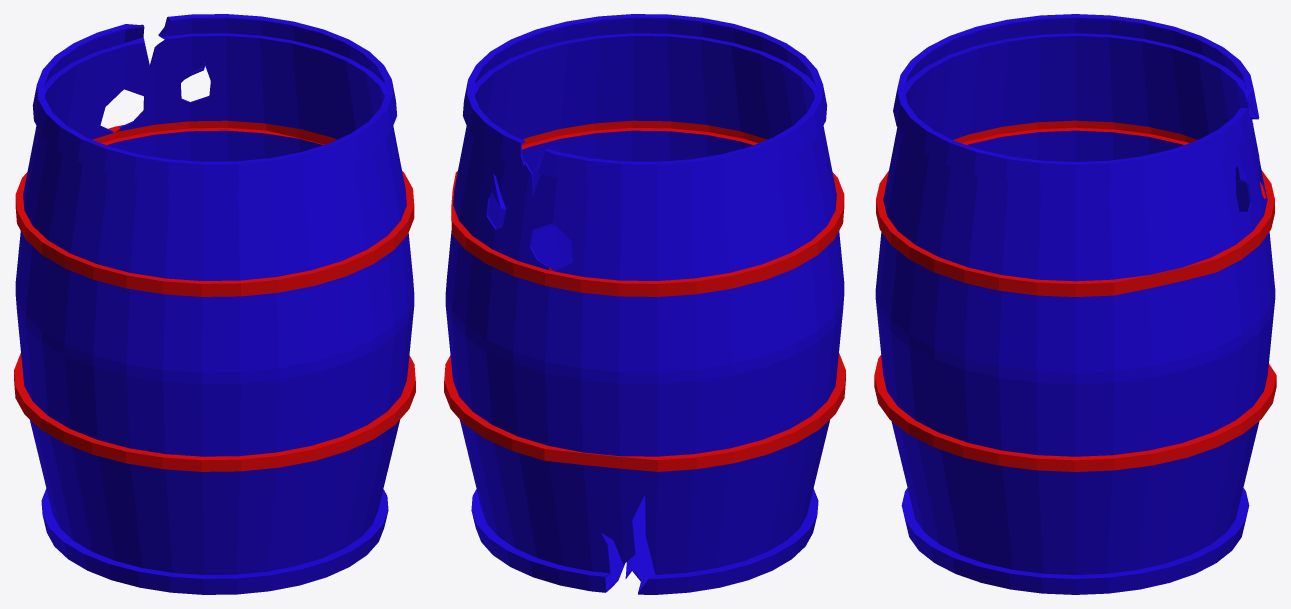
File: Barrel8.fbx
3 views of the same model, side by side, from view 1: azimuth 30°, elevation 25°; view 2: azimuth 150°, elevation 25°; view 3: azimuth 270°, elevation 25° (orthographic).
Visible parts, largest first — view 1: Cylinder.001; view 2: Cylinder.001; view 3: Cylinder.001.
Boxes of the visible parts, bbox=[...] form: Cylinder.001: bbox=[14, 14, 415, 594]; Cylinder.001: bbox=[444, 14, 845, 594]; Cylinder.001: bbox=[874, 14, 1276, 594].
Size of the model in its own units: 209 by 249 by 209.
